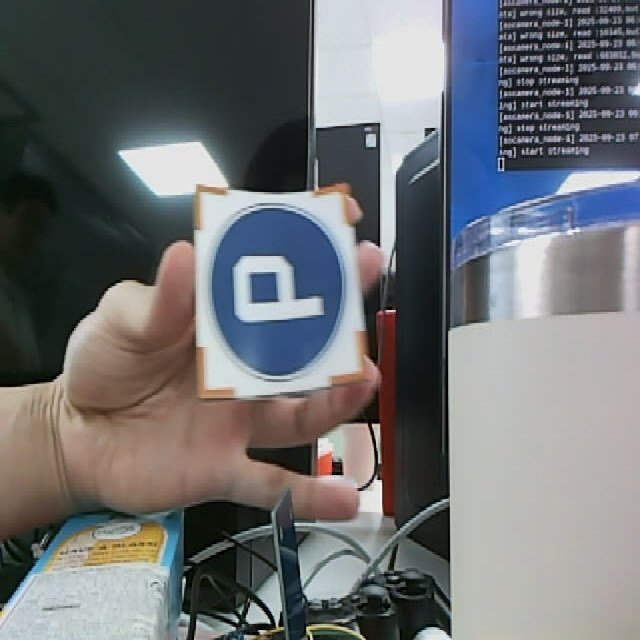parking: (188, 186, 376, 400)
